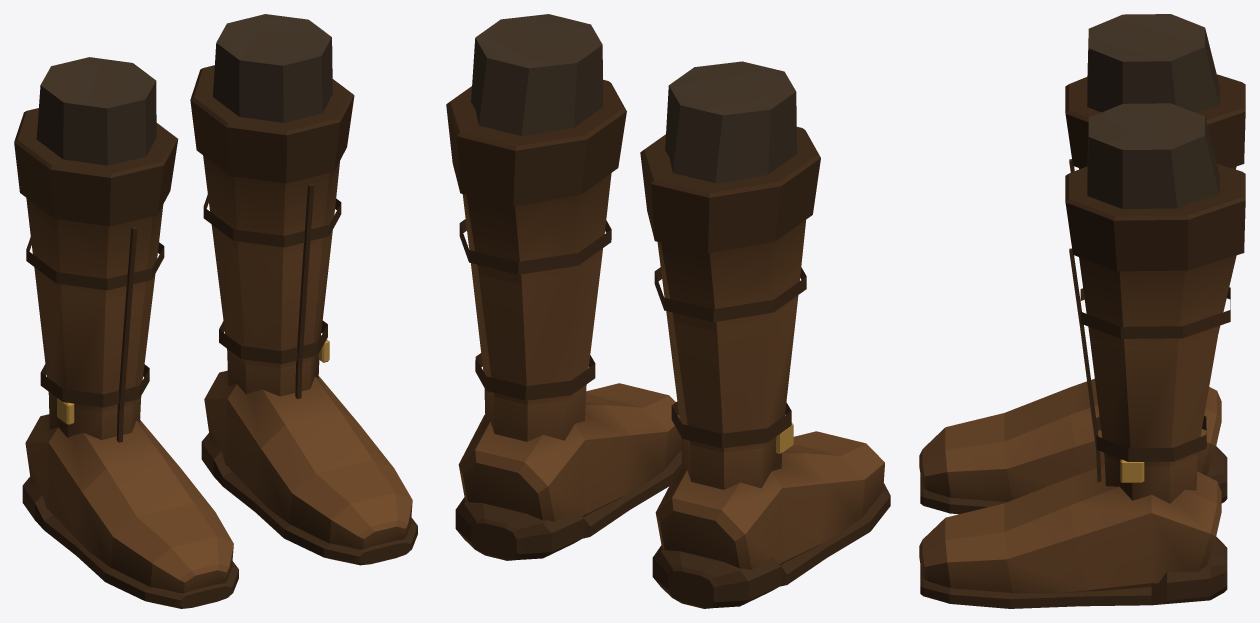
The model's file is f_boots_f.glb.
3 renders of one model, left to right at view 1: azimuth 30°, elevation 25°; view 2: azimuth 150°, elevation 25°; view 3: azimuth 270°, elevation 25°, orthographic. The views are drawn at different scales.
Visible parts, largest first — view 1: LegL_Boot, LegR_Boot, LegR_BootFoot, LegL_BootFoot, LegL_Shin, LegR_Shin; view 2: LegR_Boot, LegL_Boot, LegR_BootFoot, LegL_BootFoot, LegL_Shin, LegR_Shin; view 3: LegL_Boot, LegL_BootFoot, LegR_BootFoot, LegL_Shin, LegR_Shin, LegR_Boot.
Boxes of the visible parts, x1,y1,x2,y2 form: LegL_Boot: (190,65,354,399); LegR_Boot: (14,108,178,442); LegR_BootFoot: (22,414,238,608); LegL_BootFoot: (201,370,417,565); LegL_Shin: (213,14,332,122); LegR_Shin: (36,57,156,165); LegR_Boot: (640,127,820,489); LegL_Boot: (446,79,626,441); LegR_BootFoot: (652,431,890,608); LegL_BootFoot: (455,383,681,560); LegL_Shin: (471,14,602,135); LegR_Shin: (665,61,797,183); LegL_Boot: (1065,164,1245,503); LegL_BootFoot: (919,465,1227,608); LegR_BootFoot: (919,378,1227,514); LegL_Shin: (1087,103,1219,208); LegR_Shin: (1087,14,1219,112); LegR_Boot: (1065,74,1245,172).
Size of the model in its own units: 0.3647 by 0.5104 by 0.3269.
